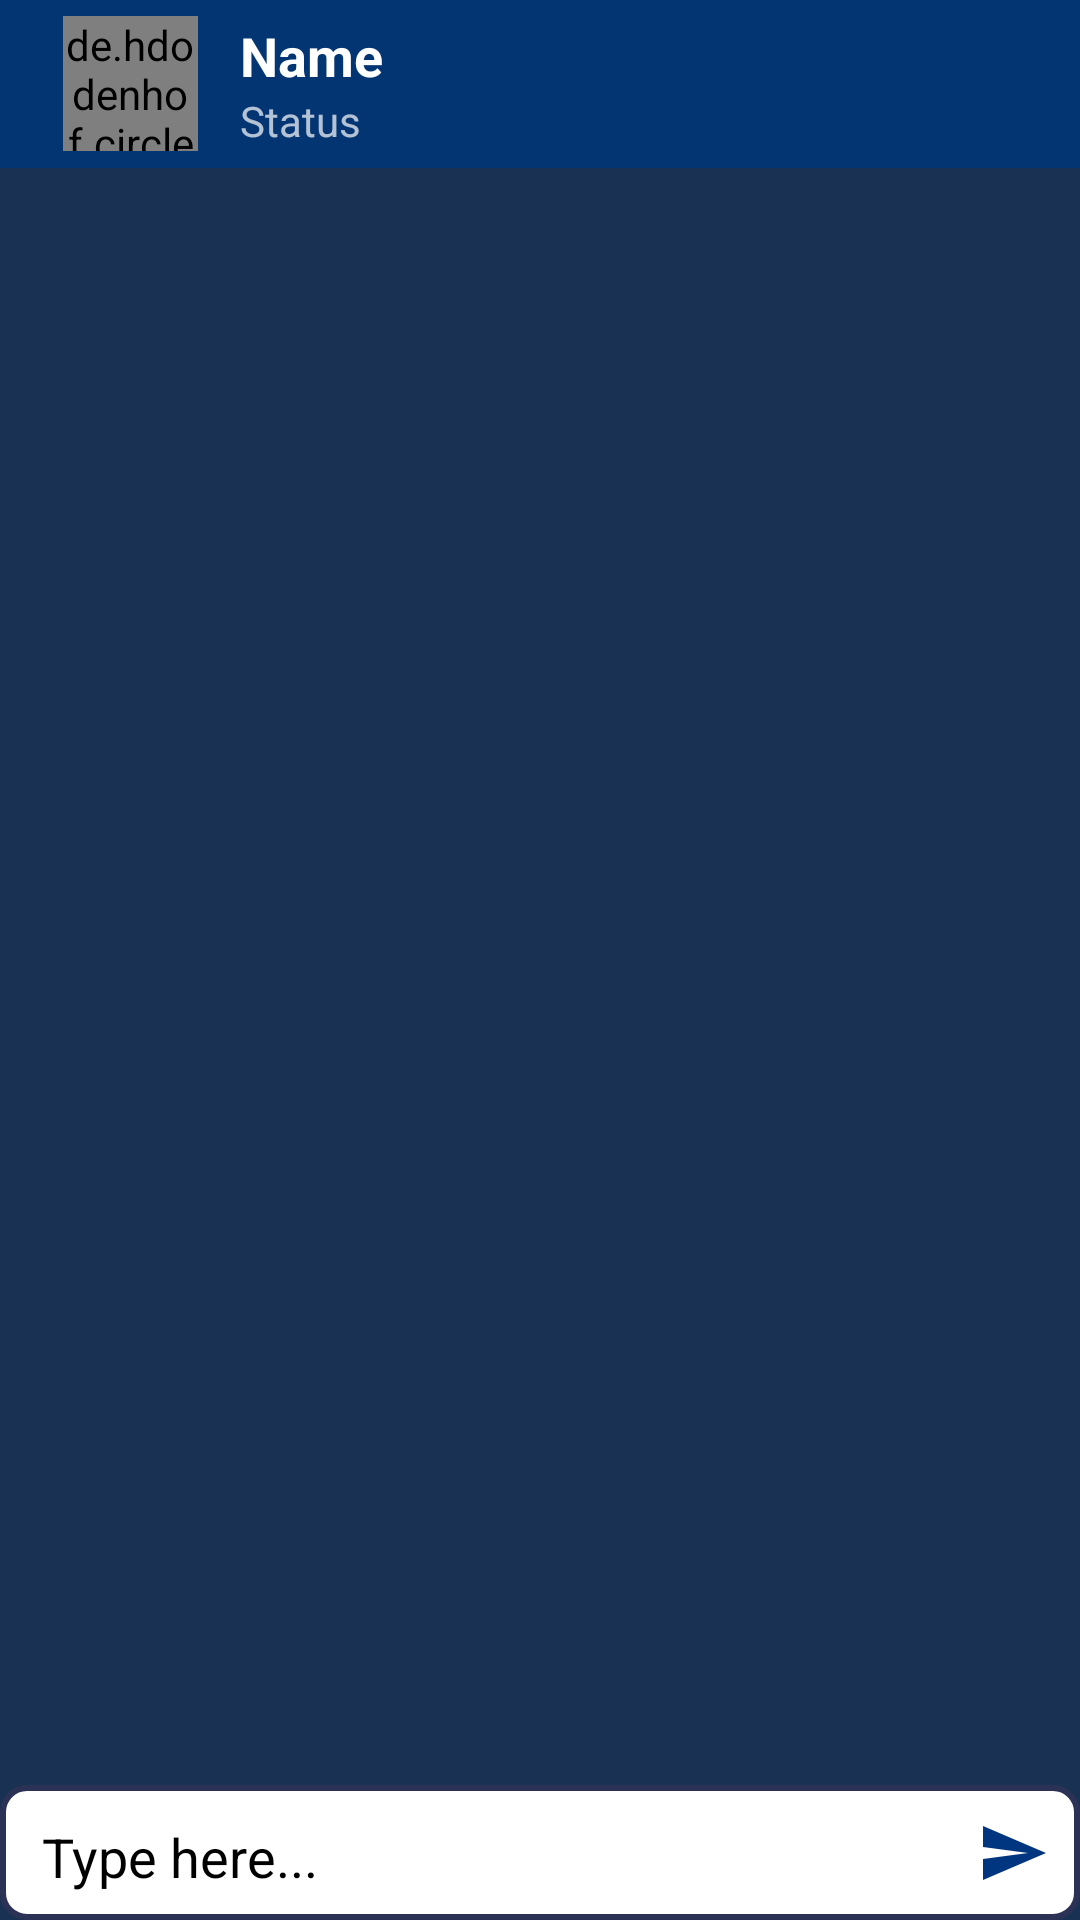

Screen size 1080×1920. Icon name, then its center in pixels as (x,y):
send: (1012,1852)
